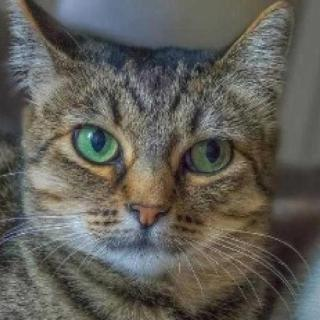cat: (8, 0, 289, 273)
nose: (122, 172, 179, 234)
